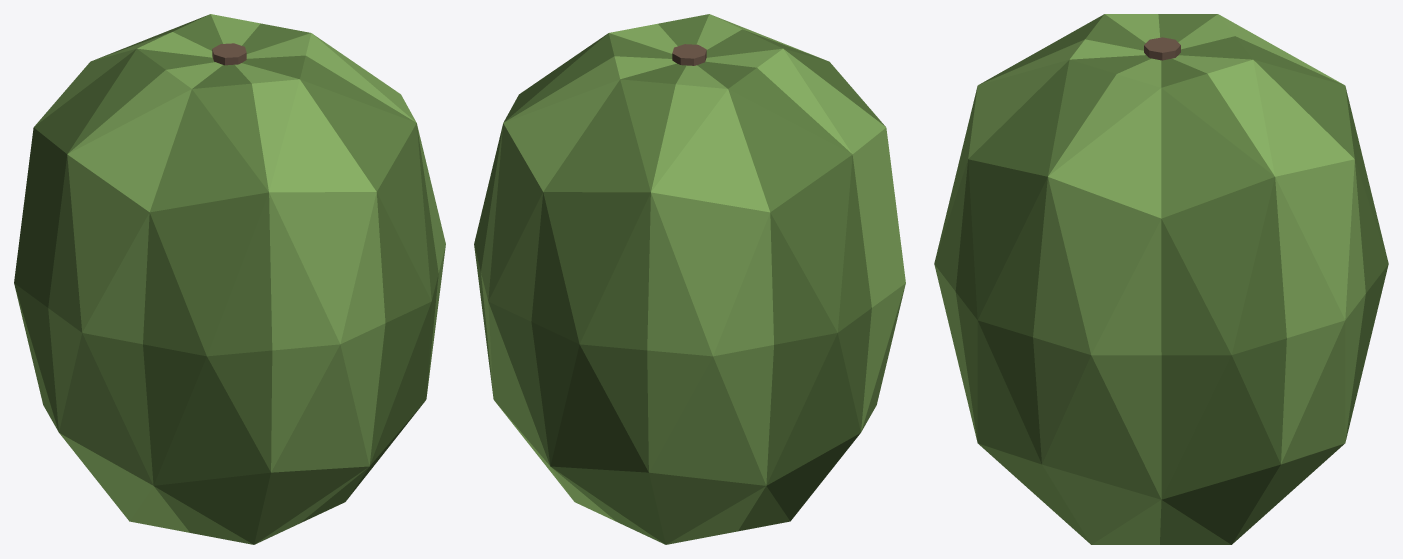
File: Watermelon_01.fbx
The picture shows the model from 3 angles, left to right: view 1: azimuth 30°, elevation 25°; view 2: azimuth 150°, elevation 25°; view 3: azimuth 270°, elevation 25°; orthographic projection. The views are drawn at different scales.
Parts seen in each view (by area): view 1: Watermelon_01; view 2: Watermelon_01; view 3: Watermelon_01.
Boxes of the visible parts, left/top/right/bottom form: Watermelon_01: left=14, top=14, right=445, bottom=544; Watermelon_01: left=474, top=14, right=905, bottom=544; Watermelon_01: left=934, top=14, right=1388, bottom=544.
Size of the model in its own units: 22.14 by 27.33 by 23.28.
